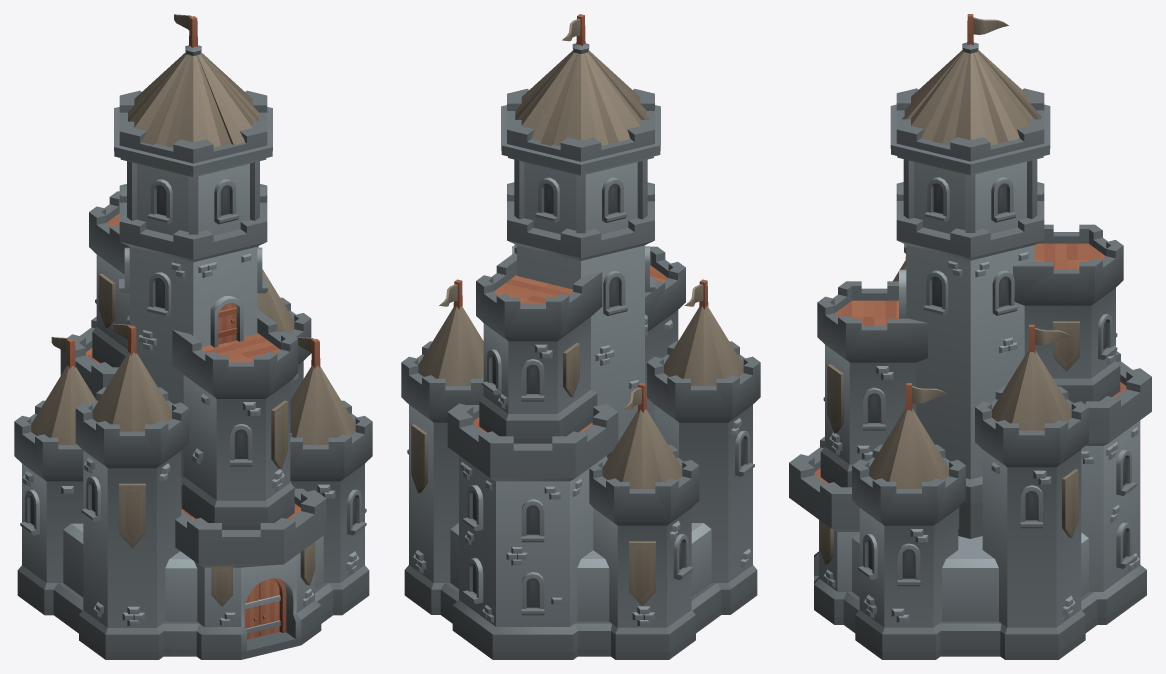
File: capital.glb
3 views of the same model, side by side, from view 1: azimuth 30°, elevation 25°; view 2: azimuth 150°, elevation 25°; view 3: azimuth 270°, elevation 25° (orthographic).
Parts seen in each view (by area): view 1: building_castle_blue; view 2: building_castle_blue; view 3: building_castle_blue.
Boxes of the visible parts, x1,y1,x2,y2 form: building_castle_blue: (14, 14, 372, 659); building_castle_blue: (401, 14, 760, 659); building_castle_blue: (789, 14, 1151, 659).
Bounding box in the file's own units: 1.98 × 3.98 × 2.26.
Materials: 1 (1 with a texture image).
